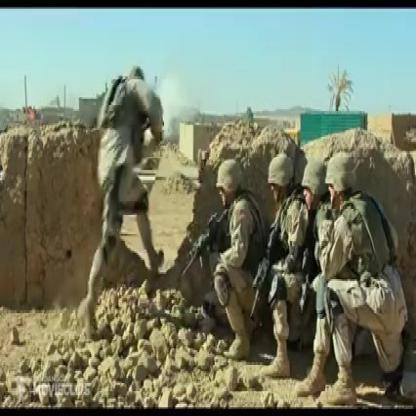Gun: (173, 196, 236, 292), (241, 220, 289, 324), (304, 246, 307, 305)
